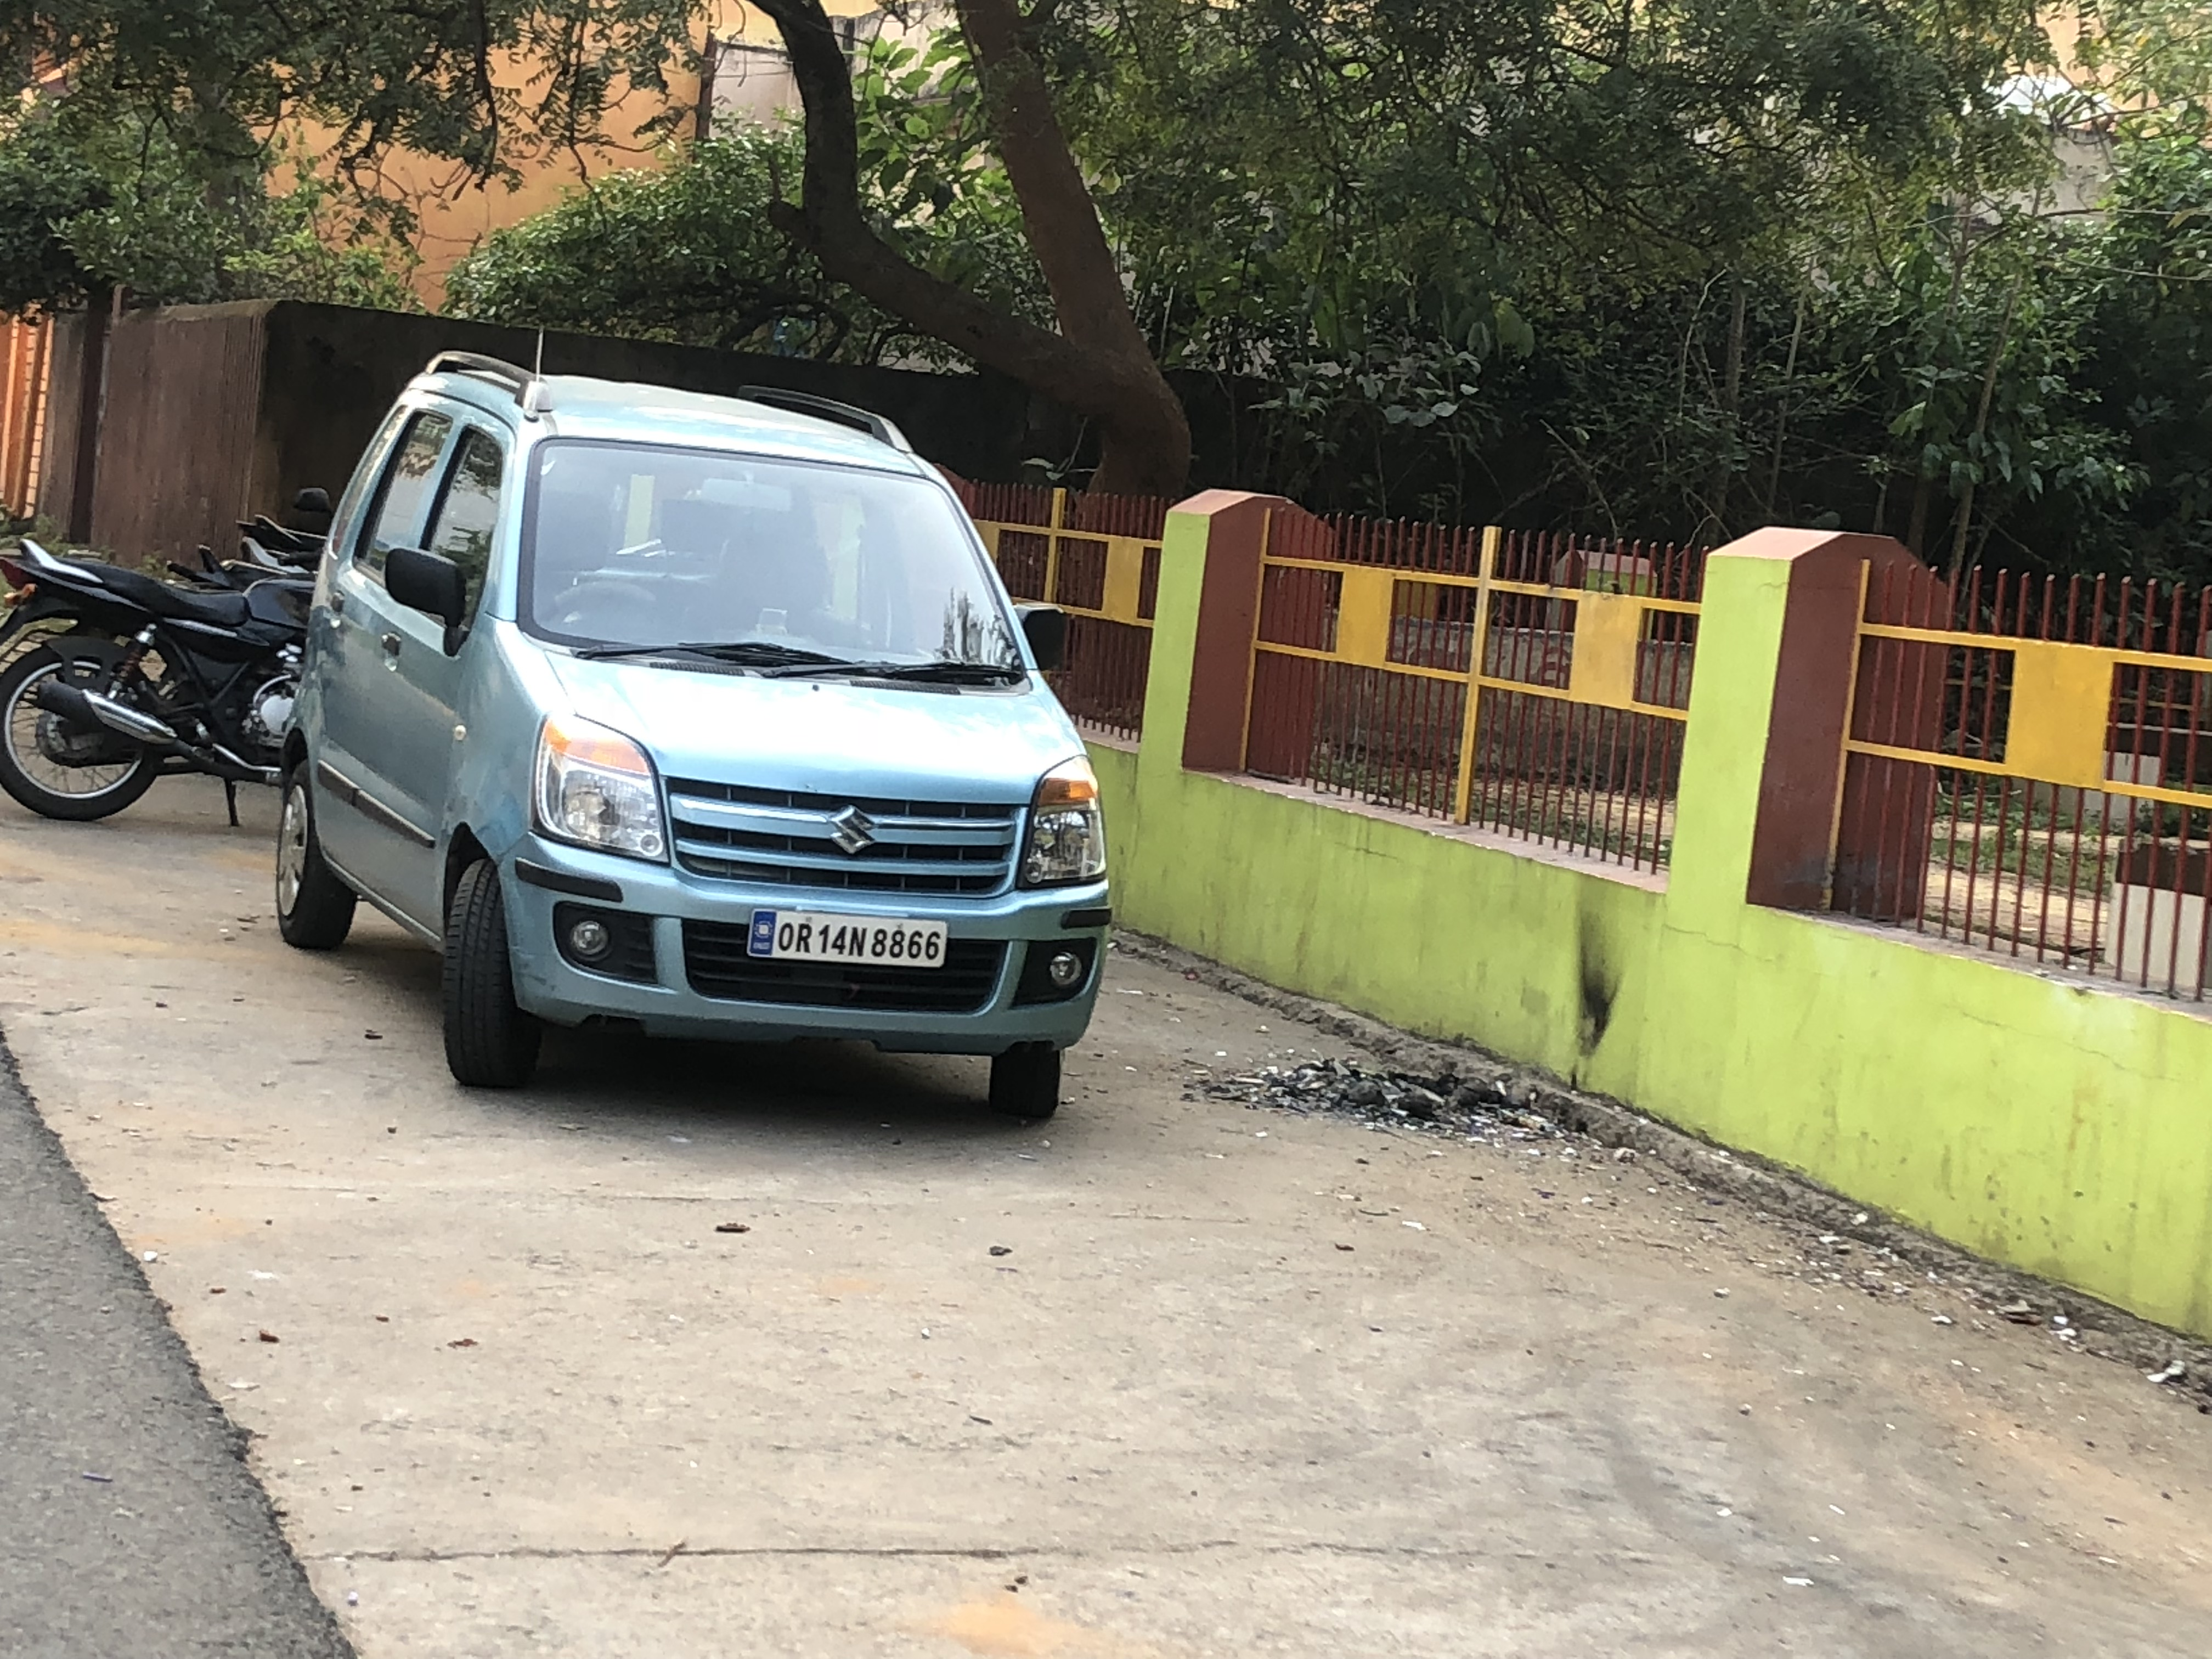licenseplate: (740, 903, 961, 981)
